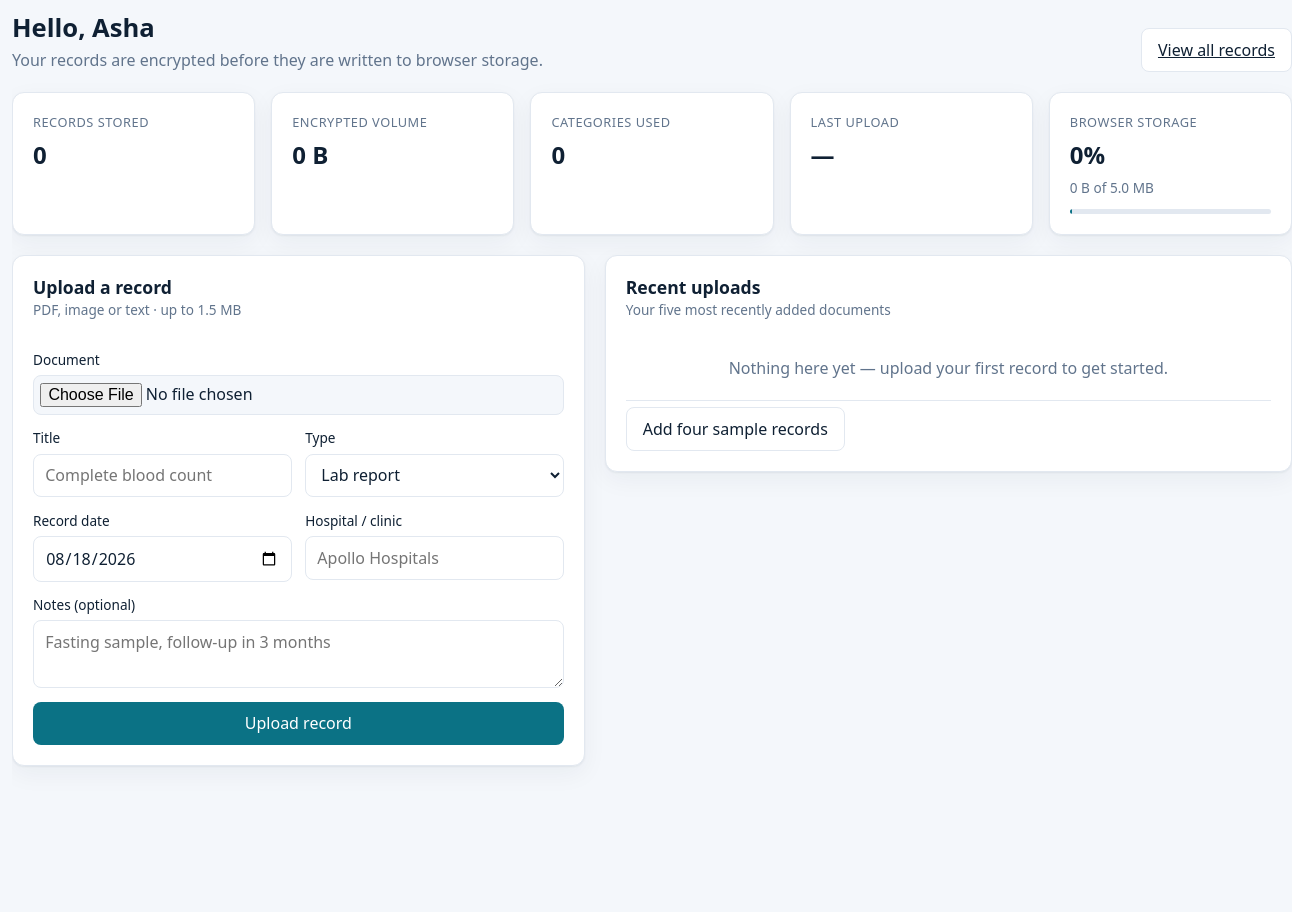
DashboardPage › reports a failure to seed the sample records
Step 1. Click the button "Add four sample records" → (735, 429), box 626,407 -> 845,450
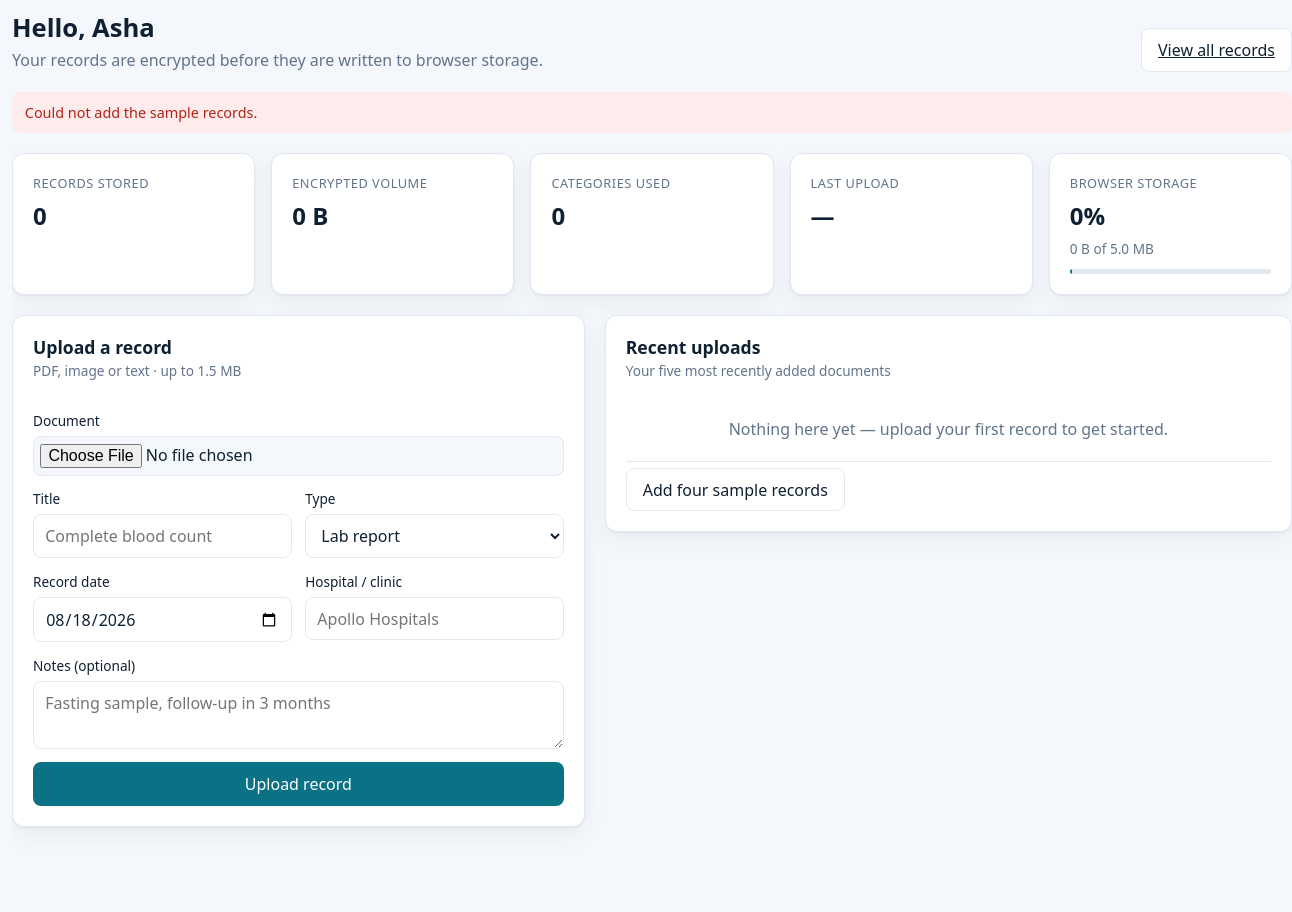
Result: the message reads "Could not add the sample records." at 25,103 -> 257,122
